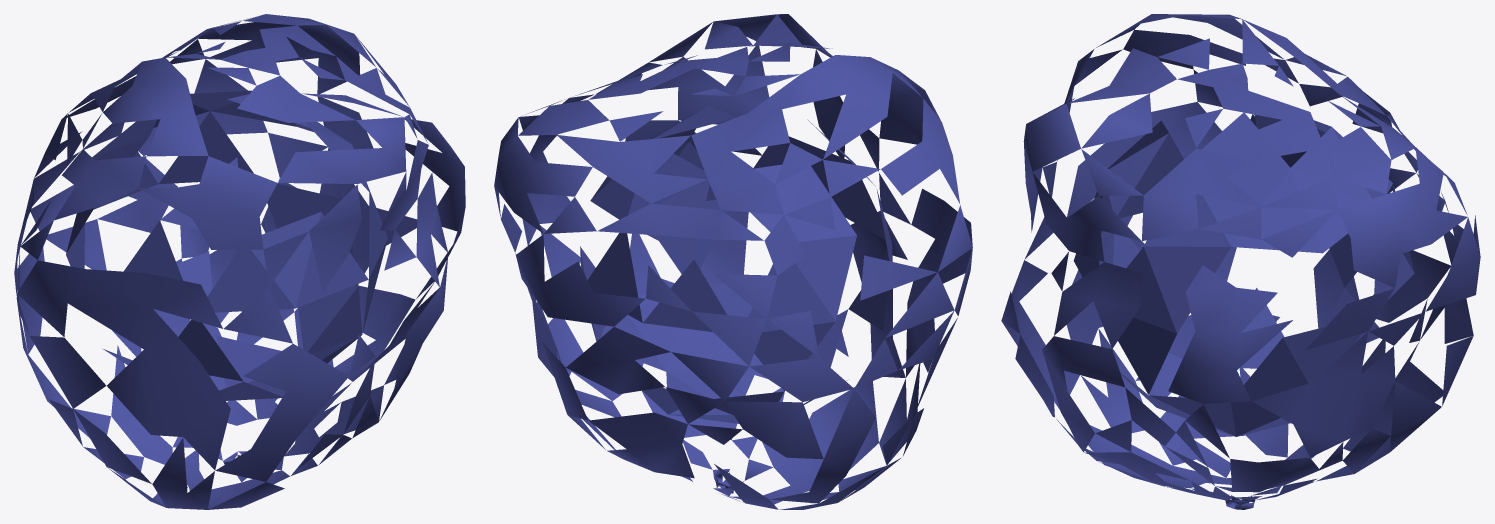
The model's file is BalloonPOP_BLUE.fbx.
3 renders of one model, left to right at view 1: azimuth 30°, elevation 25°; view 2: azimuth 150°, elevation 25°; view 3: azimuth 270°, elevation 25°, orthographic. The views are drawn at different scales.
Visible parts, largest first — view 1: Balloon; view 2: Balloon; view 3: Balloon.
Part boxes in pixels (<box>): Balloon: <box>14,14,465,509</box>; Balloon: <box>494,14,972,509</box>; Balloon: <box>1001,14,1480,509</box>.
Bounding box in the file's own units: 116 × 110 × 105.
